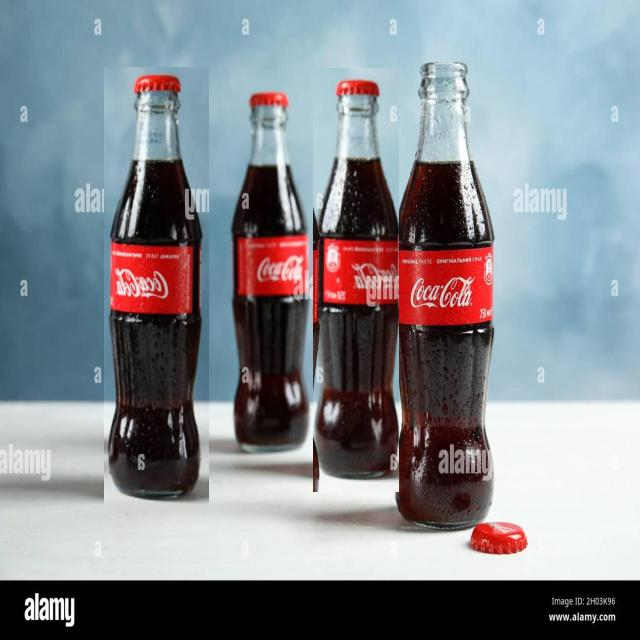coca-cola: (390, 49, 500, 540), (104, 67, 209, 505), (314, 68, 399, 492), (228, 88, 312, 462)
